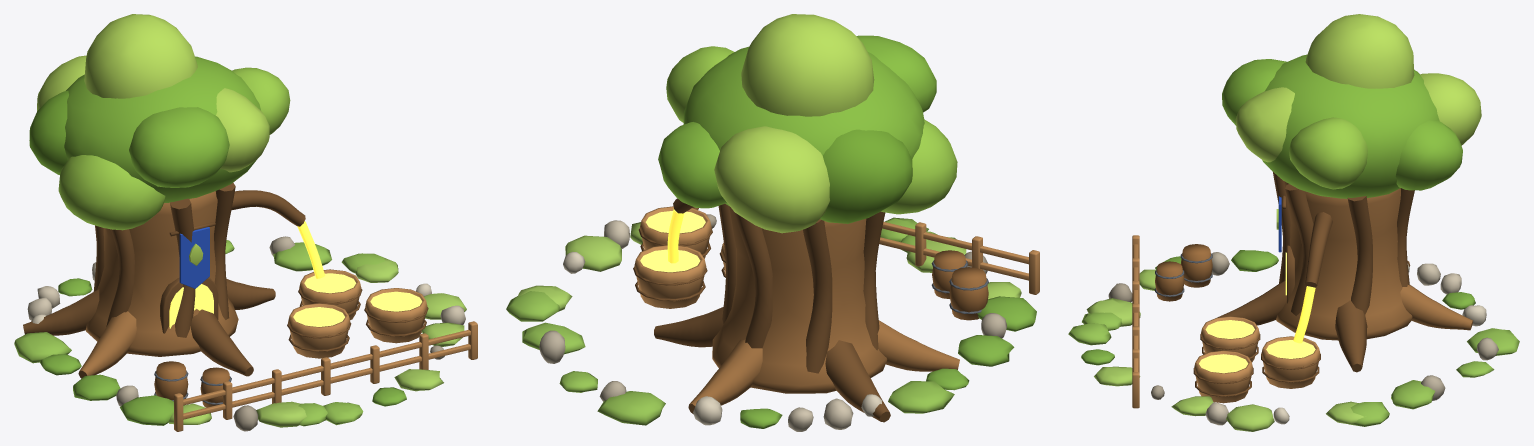
Rendered from b_saplodge.glb.
The picture shows the model from 3 angles, left to right: view 1: azimuth 30°, elevation 25°; view 2: azimuth 150°, elevation 25°; view 3: azimuth 270°, elevation 25°; orthographic projection. The views are drawn at different scales.
Visible parts, largest first — view 1: root_matte#86bc40, root_matte#74502c, root_matte#b6dc5c, root_matte#a0703f, root_matte#c08a52, root_matte#9ccc4c, root_matte#a8d060, root_matte#7fb243, root_matte#94c252, root_glow#ffbe4a, canopyC3, root_matte#9a6a3a (+6 smaller); view 2: root_matte#b6dc5c, root_matte#a0703f, root_matte#86bc40, root_matte#74502c, root_matte#c08a52, root_matte#94c252, canopyC3, root_matte#9ccc4c, root_matte#7fb243, root_matte#a8d060, root_matte#9a6a3a, root_glow#ffbe4a (+4 smaller); view 3: root_matte#86bc40, root_matte#b6dc5c, root_matte#a0703f, root_matte#74502c, root_matte#c08a52, root_matte#9ccc4c, root_matte#94c252, root_matte#a8d060, root_glow#ffbe4a, root_matte#9a6a3a, root_matte#7fb243, root_matte#c9bea8 (+4 smaller).
Boxes of the visible parts, x1,y1,x2,y2 form: root_matte#86bc40: [64, 56, 260, 202]; root_matte#74502c: [23, 182, 428, 376]; root_matte#b6dc5c: [37, 14, 269, 265]; root_matte#a0703f: [78, 191, 238, 378]; root_matte#c08a52: [174, 269, 477, 431]; root_matte#9ccc4c: [58, 67, 290, 230]; root_matte#a8d060: [168, 258, 466, 427]; root_matte#7fb243: [39, 278, 406, 425]; root_matte#94c252: [14, 240, 385, 426]; root_glow#ffbe4a: [293, 273, 422, 326]; canopyC3: [29, 90, 68, 174]; root_matte#9a6a3a: [154, 361, 229, 407]; root_matte#b6dc5c: [714, 14, 874, 233]; root_matte#a0703f: [688, 206, 959, 414]; root_matte#86bc40: [658, 35, 936, 208]; root_matte#74502c: [633, 198, 890, 422]; root_matte#c08a52: [634, 206, 1039, 308]; root_matte#94c252: [506, 217, 954, 425]; canopyC3: [820, 129, 912, 223]; root_matte#9ccc4c: [666, 46, 957, 214]; root_matte#7fb243: [740, 296, 1036, 428]; root_matte#a8d060: [517, 222, 1021, 311]; root_matte#9a6a3a: [932, 250, 988, 320]; root_glow#ffbe4a: [640, 211, 705, 272]; root_matte#86bc40: [1222, 54, 1462, 198]; root_matte#b6dc5c: [1235, 14, 1481, 229]; root_matte#a0703f: [1276, 181, 1473, 340]; root_matte#74502c: [1193, 172, 1414, 396]; root_matte#c08a52: [1132, 235, 1320, 408]; root_matte#9ccc4c: [1289, 117, 1367, 189]; root_matte#94c252: [1068, 312, 1519, 426]; root_matte#a8d060: [1086, 269, 1365, 431]; root_glow#ffbe4a: [1199, 320, 1315, 373]; root_matte#9a6a3a: [1155, 244, 1212, 301]; root_matte#7fb243: [1081, 250, 1475, 365]; root_matte#c9bea8: [1205, 263, 1461, 425].
Bounding box in the file's own units: 3.14 × 2.44 × 3.35.
